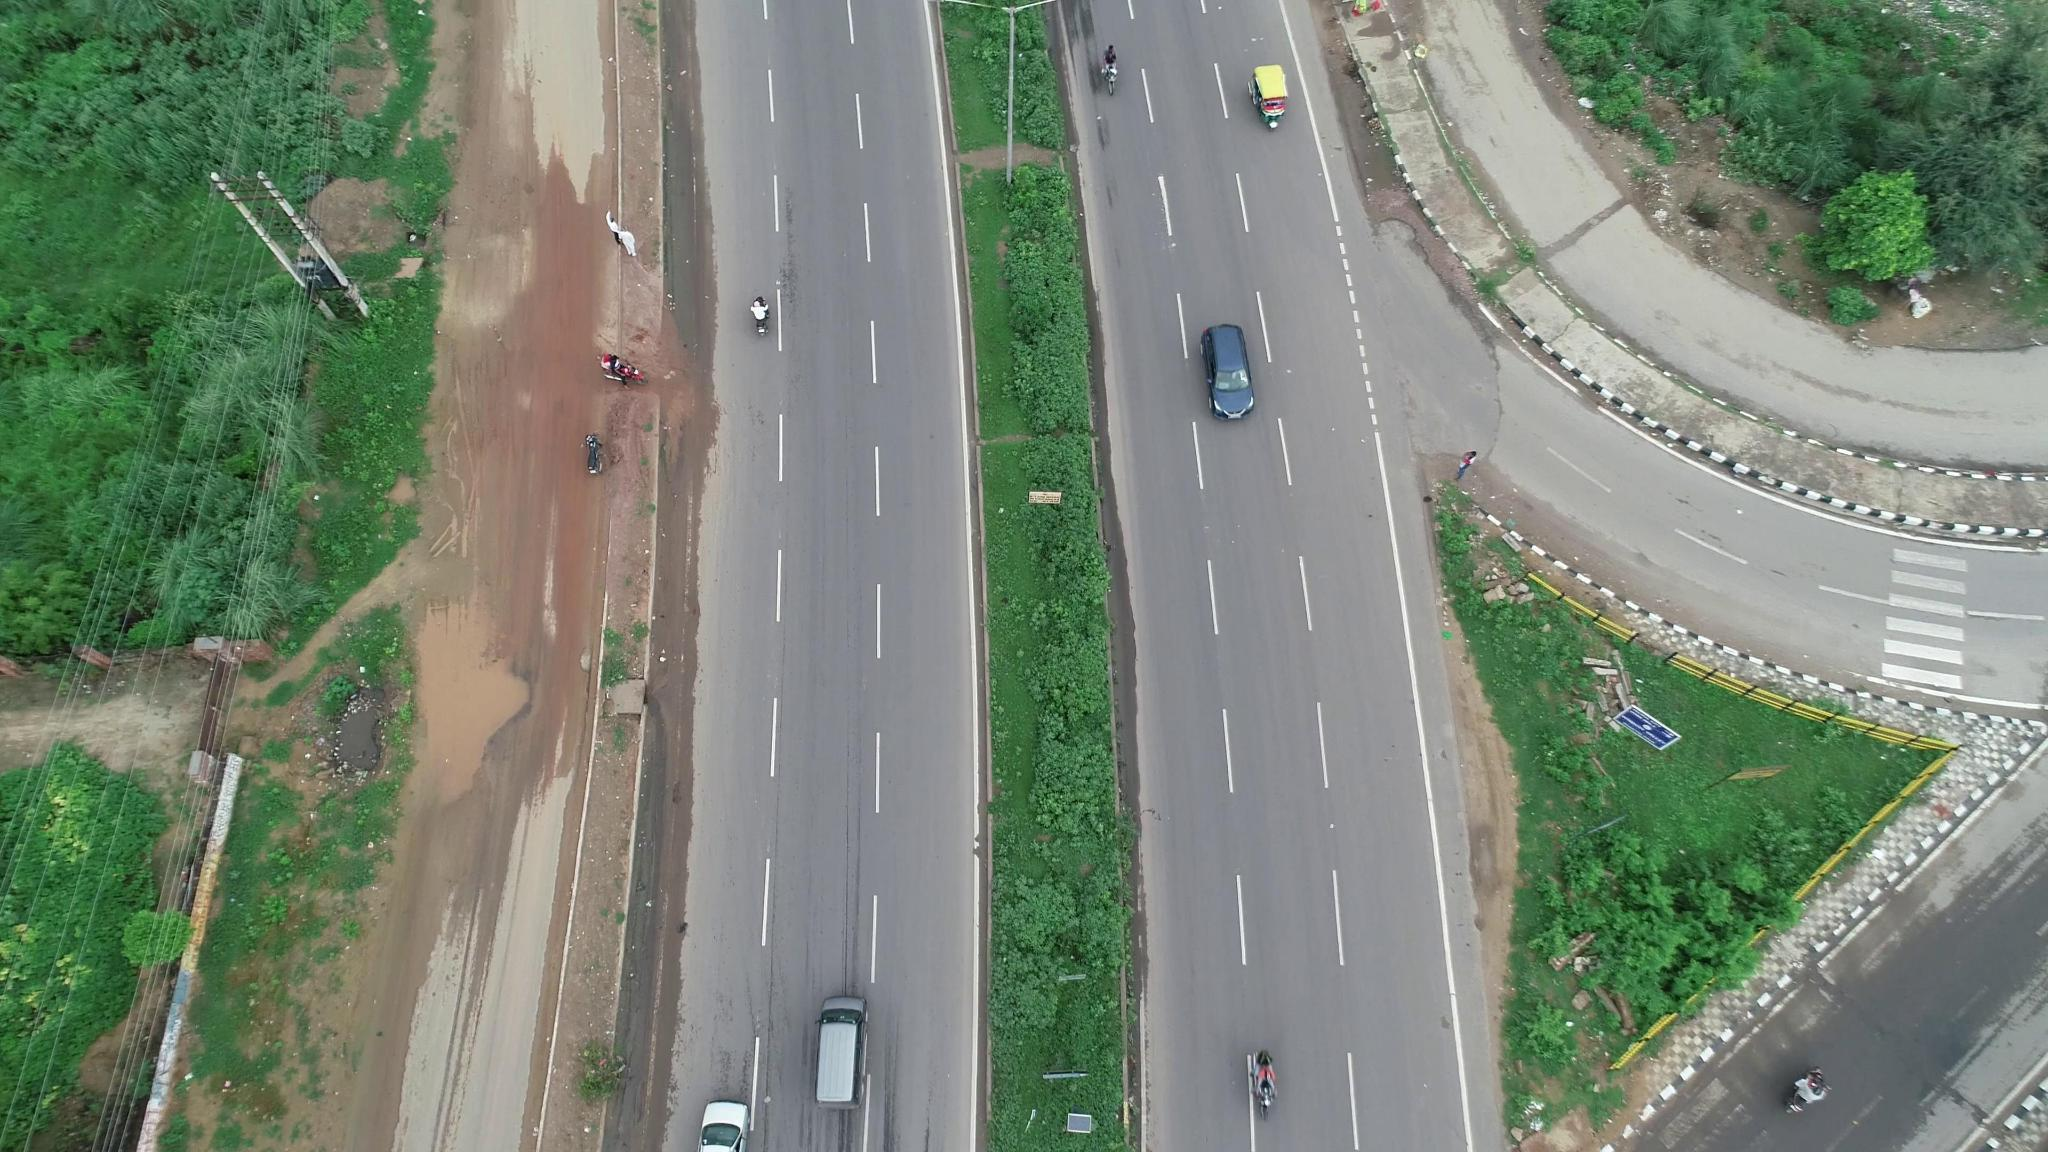Muddy_road: (447, 291, 592, 615)
Ravelling: (779, 187, 809, 329)
Waterlogging: (428, 625, 537, 805)
